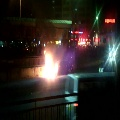fire: (39, 50, 58, 79)
